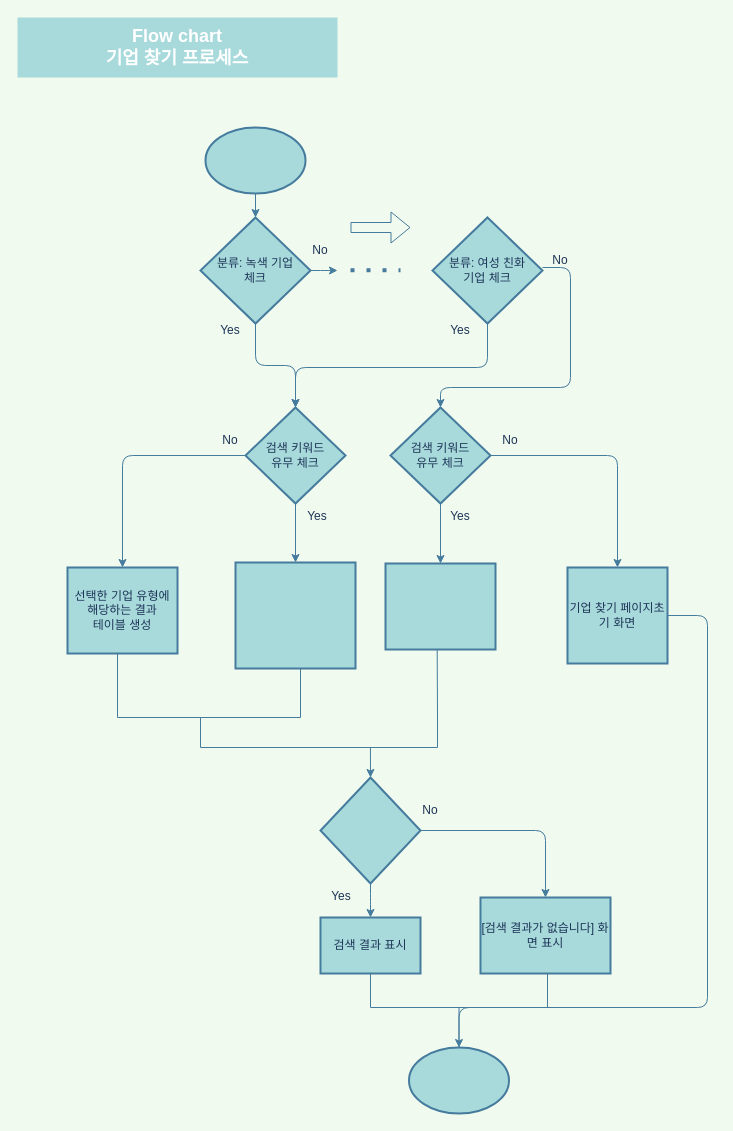
This 733x1131 diagram has some shape labels left out. The shapes that lost their labels are listed below. From the top down, each one's box as (x1, y1, x2, y2) in pixels, then its label:
(204, 126, 306, 194): START (기업 찾기 클릭)
(234, 561, 356, 669): 선택한 기업 유형에 해당하고 검색 키워드를 포함한 결과 테이블 생성
(384, 562, 496, 650): 검색 키워드를 포함한 결과 테이블 생성
(319, 776, 421, 884): 검색 결과 유무
(408, 1046, 510, 1114): FINISH
